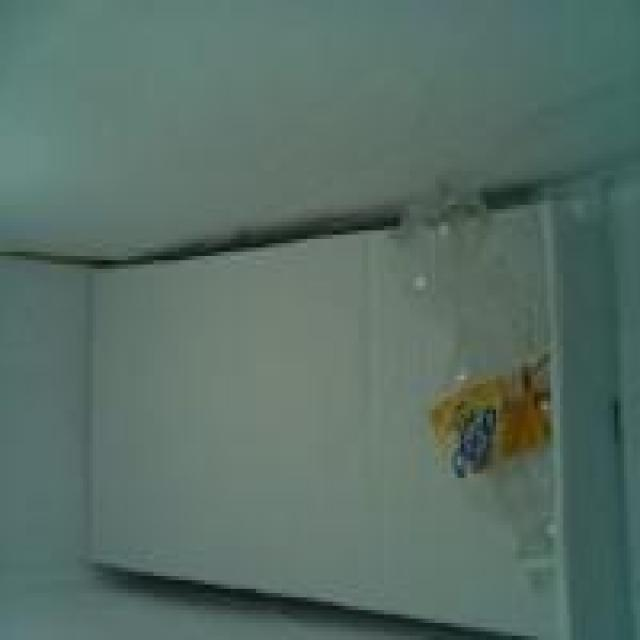bottle: (401, 170, 555, 591)
